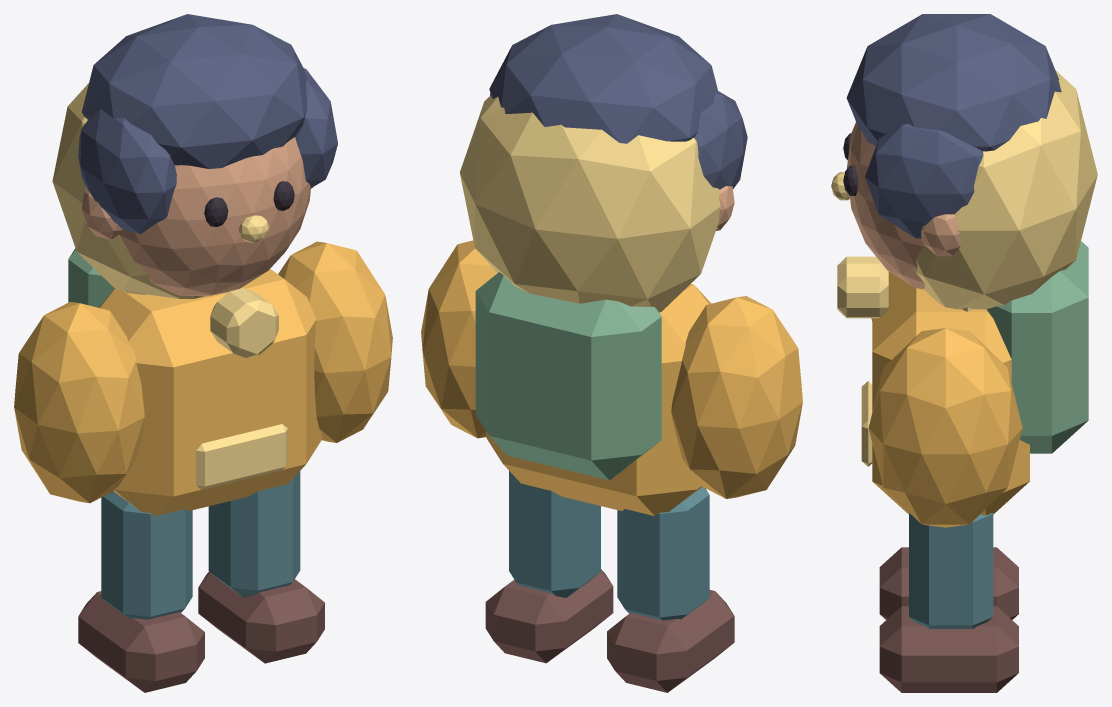
The model's file is dream_explorer.glb.
3 views of the same model, side by side, from view 1: azimuth 30°, elevation 25°; view 2: azimuth 150°, elevation 25°; view 3: azimuth 270°, elevation 25° (orthographic).
Parts seen in each view (by area): view 1: Hoodie body, Hair cap, Left sleeve, Face, Right sleeve, Left leg, Right leg, Left curl, Left boot, Right boot, Hood, Hoodie pocket (+6 smaller); view 2: Hood, Little satchel, Hair cap, Left sleeve, Hoodie body, Left leg, Right sleeve, Right leg, Left boot, Right boot, Left curl; view 3: Right sleeve, Hood, Hair cap, Little satchel, Right boot, Right curl, Right leg, Hoodie body, Face, Left boot, Scarf knot, Right ear (+1 smaller).
Part boxes in pixels (x1,y1,x2,y2): Hoodie body: (99, 269, 322, 516); Hair cap: (82, 14, 307, 168); Left sleeve: (14, 301, 144, 503); Face: (119, 137, 310, 296); Right sleeve: (278, 241, 392, 442); Left leg: (101, 491, 192, 619); Right leg: (208, 471, 300, 597); Left curl: (78, 109, 176, 233); Left boot: (78, 591, 204, 692); Right boot: (198, 572, 324, 663); Hood: (52, 83, 204, 298); Hoodie pocket: (196, 424, 287, 489); Hood: (459, 95, 720, 312); Little satchel: (475, 272, 661, 480); Hair cap: (489, 14, 718, 143); Left sleeve: (671, 296, 802, 498); Hoodie body: (486, 283, 711, 515); Left leg: (617, 487, 709, 620); Right sleeve: (421, 240, 497, 438); Right leg: (509, 471, 600, 597); Left boot: (607, 590, 734, 692); Right boot: (485, 569, 613, 663); Left curl: (694, 91, 747, 189); Right sleeve: (868, 328, 1022, 527); Hood: (916, 70, 1097, 309); Hair cap: (846, 14, 1061, 151); Little satchel: (986, 241, 1088, 453); Right boot: (879, 606, 1018, 692); Right curl: (865, 123, 983, 238); Right leg: (909, 513, 993, 628); Hoodie body: (872, 271, 1029, 515); Face: (846, 122, 924, 289); Left boot: (879, 547, 1018, 619); Scarf knot: (837, 256, 888, 318); Right ear: (921, 214, 960, 256).
Size of the model in its own units: 1.12 by 1.89 by 0.727.
